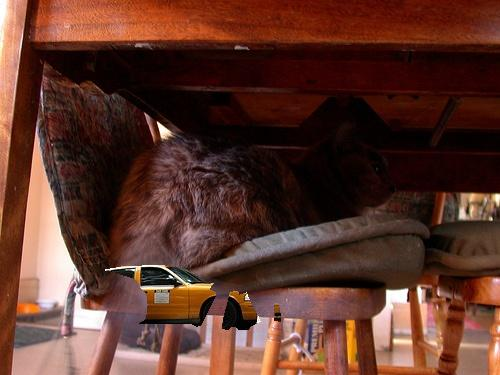tampered: (106, 266, 281, 330)
